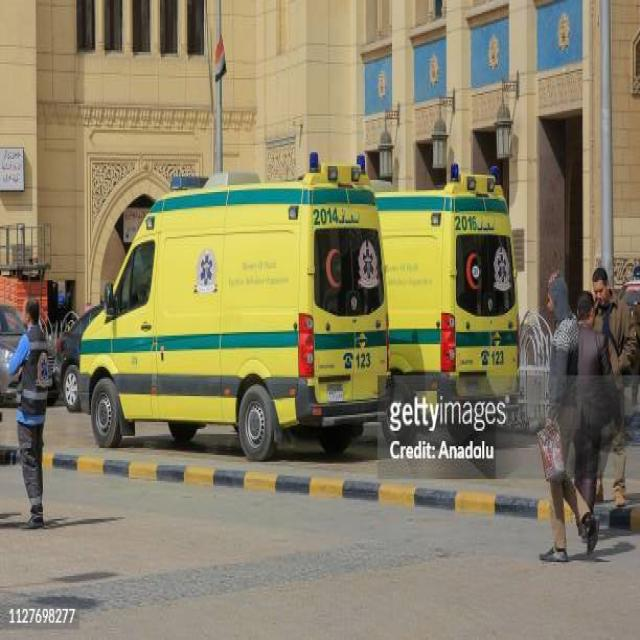Ambulance: (77, 151, 390, 460), (371, 161, 521, 446)
person: (539, 272, 599, 560), (591, 266, 638, 507), (6, 296, 54, 528)
